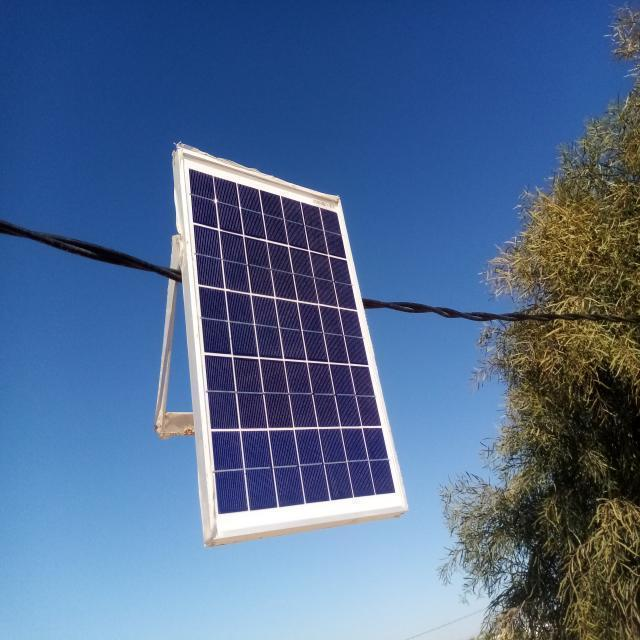Normal Solar Panel: (178, 152, 405, 537)
